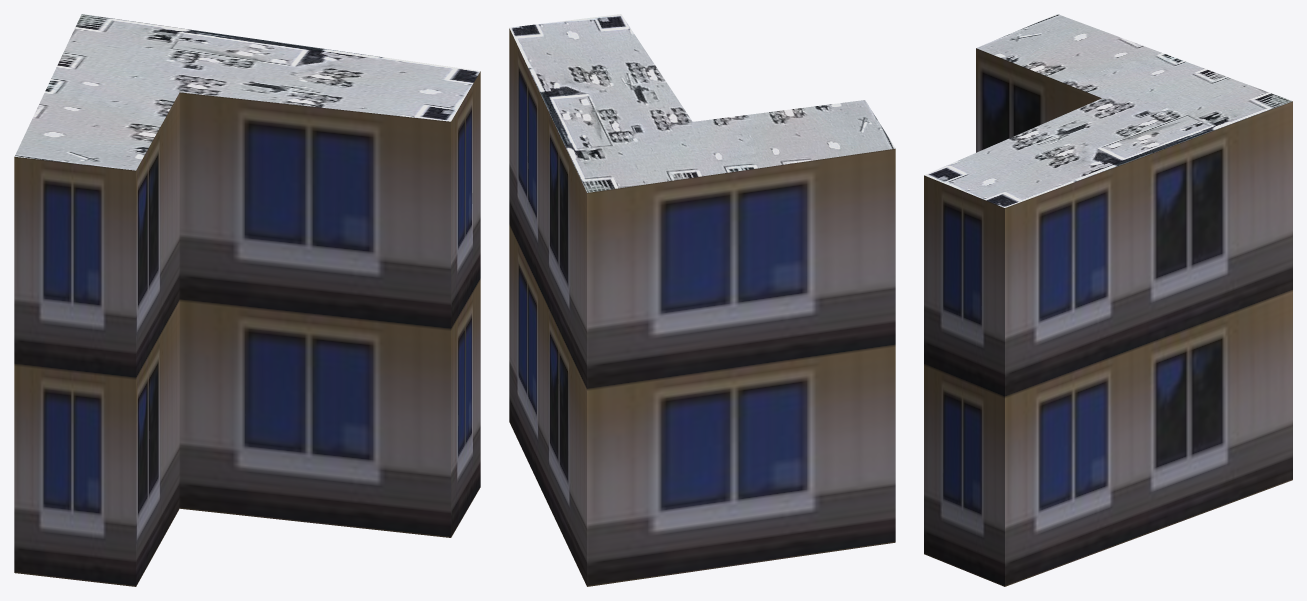
The model's file is ResTex__4520.fbx.
The picture shows the model from 3 angles, left to right: view 1: azimuth 30°, elevation 25°; view 2: azimuth 150°, elevation 25°; view 3: azimuth 270°, elevation 25°; orthographic projection. The views are drawn at different scales.
Visible parts, largest first — view 1: CityEngineMaterial_5_m, CityEngineMaterial_m; view 2: CityEngineMaterial_5_m, CityEngineMaterial_m; view 3: CityEngineMaterial_5_m, CityEngineMaterial_m.
Part boxes in pixels (<box>): CityEngineMaterial_5_m: <box>14,71,480,586</box>; CityEngineMaterial_m: <box>14,14,480,170</box>; CityEngineMaterial_5_m: <box>509,28,895,586</box>; CityEngineMaterial_m: <box>509,14,895,192</box>; CityEngineMaterial_5_m: <box>924,48,1292,586</box>; CityEngineMaterial_m: <box>924,14,1292,207</box>.
Bounding box in the file's own units: 6.59 × 6 × 5.3.
2 materials, 2 textured.
